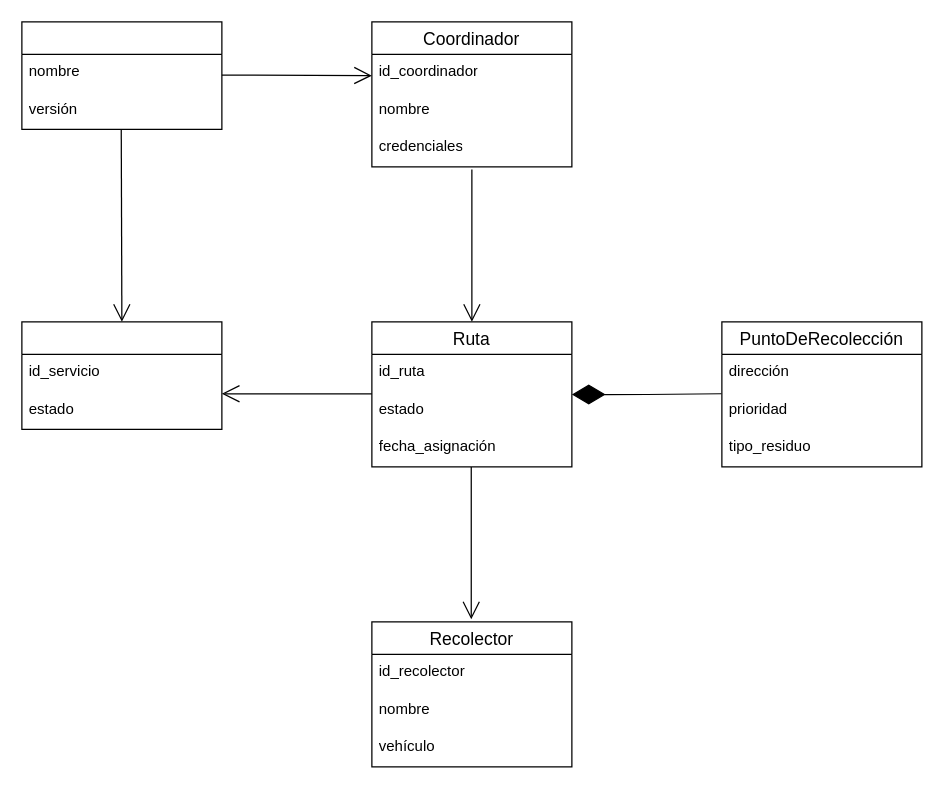
This 944x793 diagram has some shape labels left out. Each missing label, with the box of its shape:
API: (21, 321, 222, 429)
Sistema: (21, 21, 222, 129)
